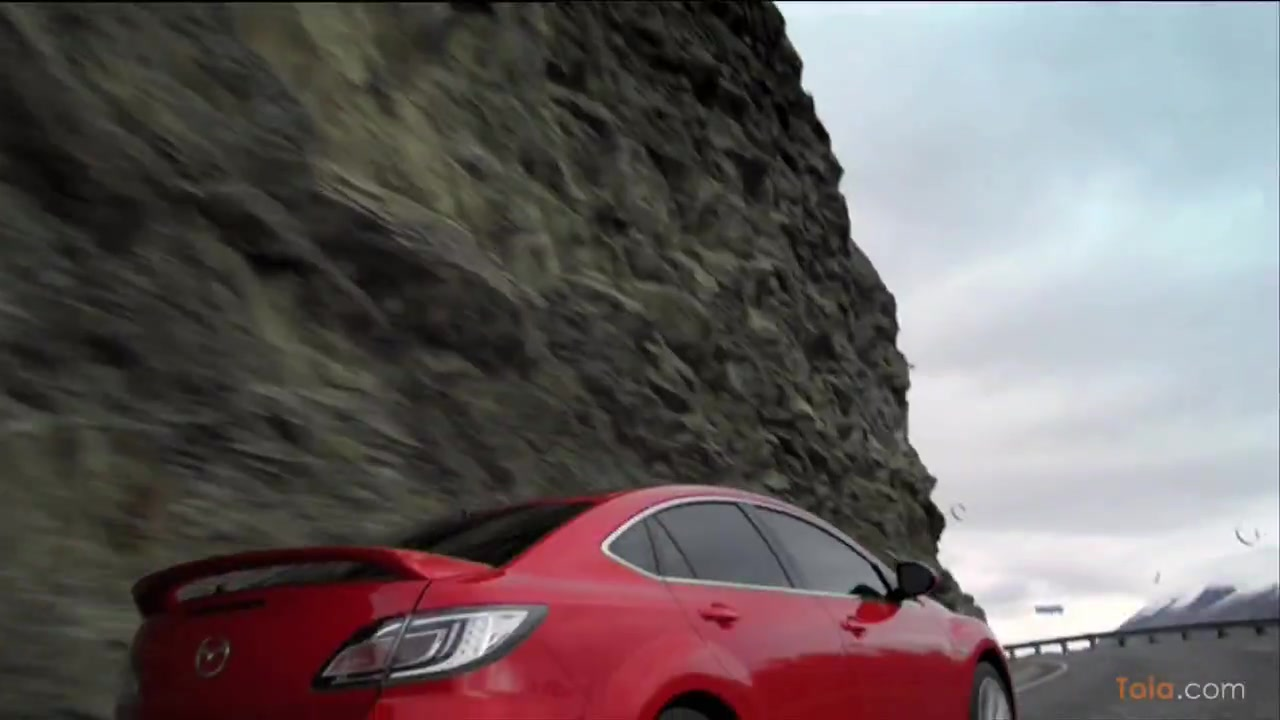car: (117, 480, 1020, 720)
